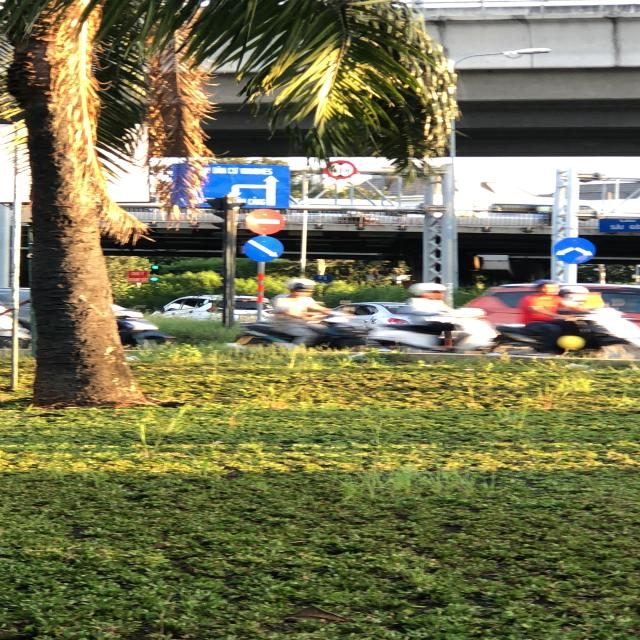Bien bao cam di nguoc chieu: (239, 204, 288, 234)
Bien bao huong phai di vong chuong ngai vat: (234, 236, 291, 271)
